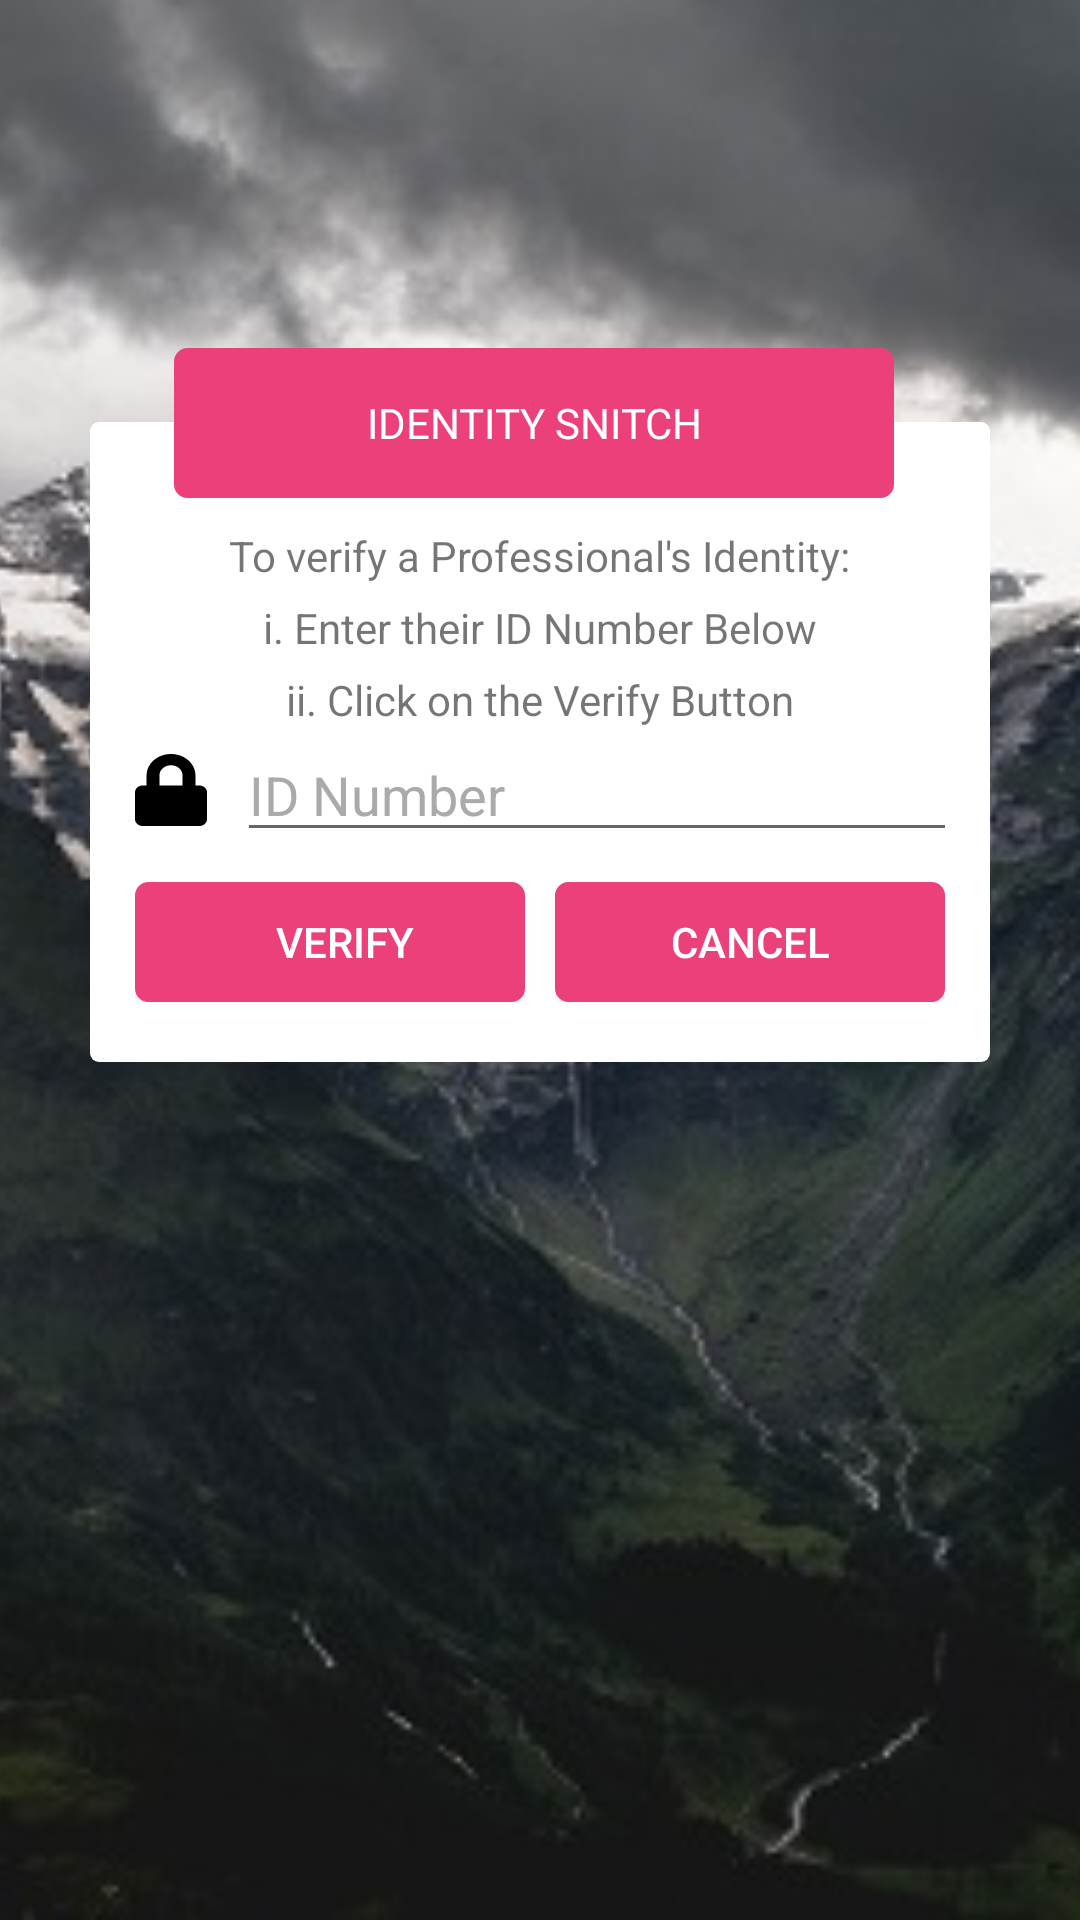

Icon click points for this 1080px x 1920px phone screenshot, format point (x, y):
lock: point (171, 790)
